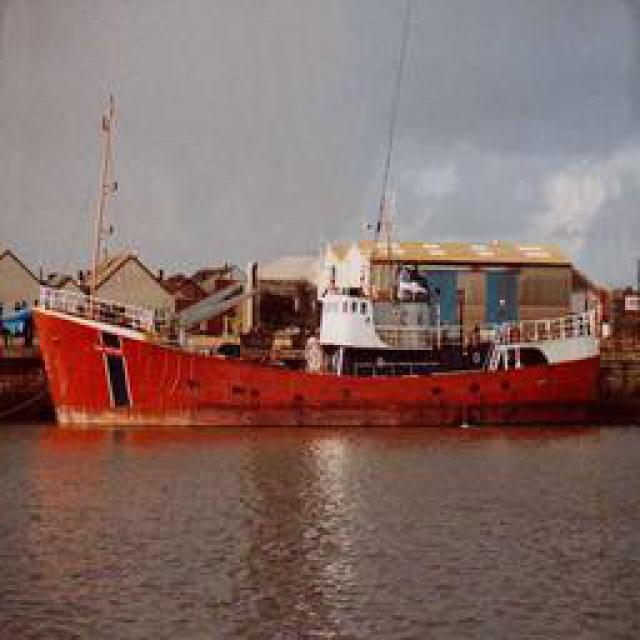Ship: (16, 241, 626, 436)
